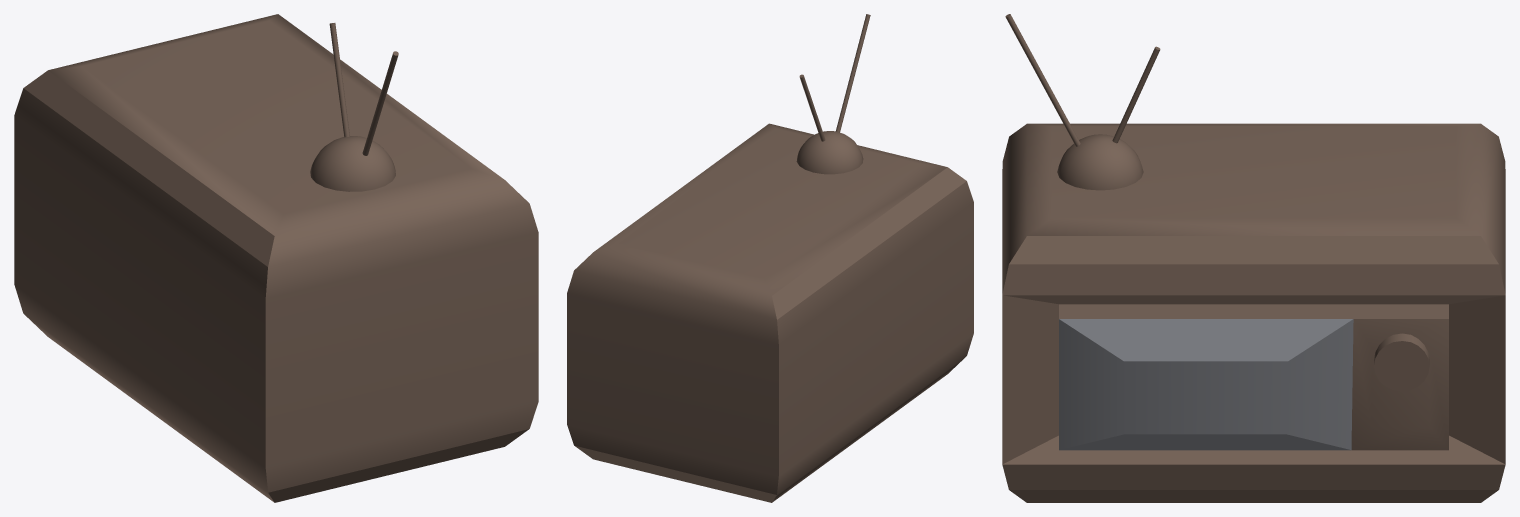
3 renders of one model, left to right at view 1: azimuth 30°, elevation 25°; view 2: azimuth 150°, elevation 25°; view 3: azimuth 270°, elevation 25°, orthographic. The views are drawn at different scales.
Parts seen in each view (by area): view 1: pCube1, pSphere1, pCylinder2, pCylinder1; view 2: pCube1, pSphere1, pCylinder1; view 3: pCube1, pSphere1, pCylinder3, pCylinder1, pCylinder2.
Boxes of the visible parts, x1,y1,x2,y2 form: pCube1: (14, 14, 538, 502); pSphere1: (310, 136, 395, 191); pCylinder2: (329, 23, 349, 137); pCylinder1: (362, 51, 398, 155); pCube1: (567, 123, 973, 502); pSphere1: (796, 131, 863, 174); pCylinder1: (836, 14, 870, 132); pCube1: (1002, 123, 1505, 502); pSphere1: (1057, 134, 1143, 190); pCylinder3: (1374, 333, 1429, 391); pCylinder1: (1005, 14, 1080, 146); pCylinder2: (1112, 46, 1160, 143).
Bounding box in the file's own units: 1.14 × 1.53 × 1.6.
